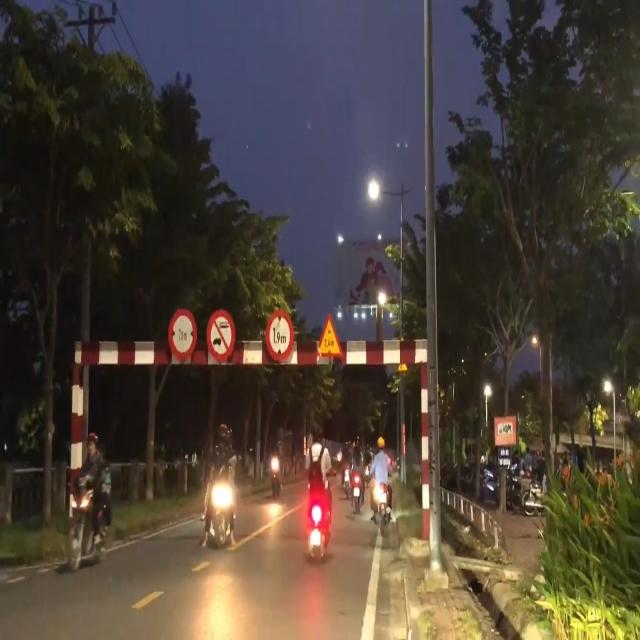Bien bao cam xe oto khach va xe oto tai: (204, 308, 242, 370)
Bien bao chieu cao tinh khong thuc te: (314, 314, 348, 360)
Bien bao han che chieu cao: (264, 306, 297, 368)
